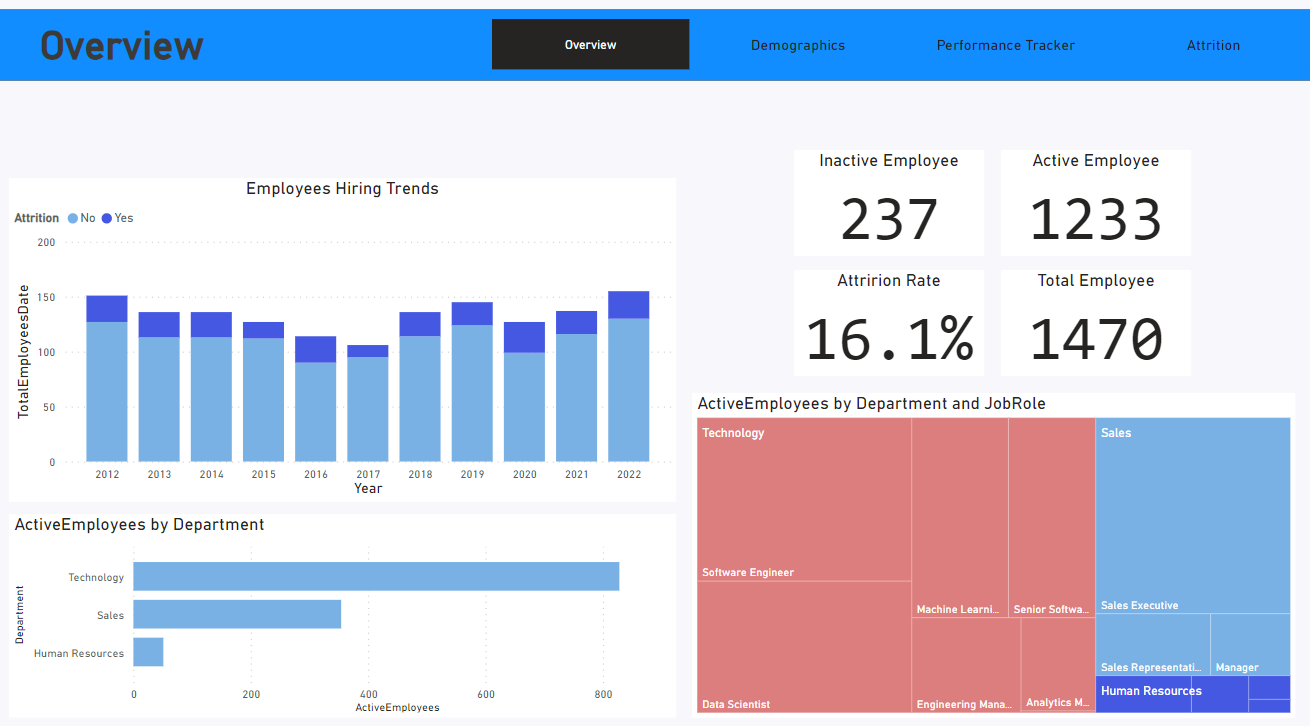

What the dashboard file says about the page in this screenshot:
{"tool":"powerbi","page":{"name":"Overview","canvas":[1280,720],"ordinal":0},"visuals":[{"type":"card","title":"Total Employee","fields":{"Values":["_Measures.TotalEmployees"]},"box":[974.6,271.4,184.8,103.1],"z":0},{"type":"card","title":"Active Employee","fields":{"Values":["_Measures.ActiveEmployees"]},"box":[974.6,154.7,184.8,103.1],"z":1000},{"type":"card","title":"Inactive Employee","fields":{"Values":["_Measures.InactiveEmployees"]},"box":[773.3,154.7,184.8,103.1],"z":2000},{"type":"card","title":"Attririon Rate","fields":{"Values":["_Measures.% AtrittionRate"]},"box":[773.3,271.4,184.8,103.1],"z":3000},{"type":"columnChart","title":"Employees Hiring Trends","fields":{"Category":["DimDate.Date.Variation.Date Hierarchy.Year","DimDate.Date.Variation.Date Hierarchy.Quarter","DimDate.Date.Variation.Date Hierarchy.Month","DimDate.Date.Variation.Date Hierarchy.Day"],"Series":["DimEmployee.Attrition"],"Y":["_Measures.TotalEmployeesDate"]},"box":[9.7,181.9,648.8,315.1],"z":4000},{"type":"treemap","fields":{"Group":["DimEmployee.Department"],"Values":["_Measures.ActiveEmployees"],"Details":["DimEmployee.JobRole"]},"box":[674,391,587.5,316.1],"z":5000},{"type":"barChart","fields":{"Y":["_Measures.ActiveEmployees"],"Category":["DimEmployee.Department"]},"box":[9.7,508.7,648.8,198.4],"z":6000},{"type":"shape","box":[0,17.5,1280,70],"z":7000},{"type":"textbox","box":[35,25.3,299.6,54.5],"z":8000},{"type":"pageNavigator","box":[479.5,27.2,800.5,49.6],"z":8001}]}

Visuals, with their boxes in screenshot pixels (x1, y1, x2, y2), scaled from the page's 1280x720 canvas onto the 1310x726 screenshot:
"Total Employee" card: rect(997, 274, 1187, 378)
"Active Employee" card: rect(997, 156, 1187, 260)
"Inactive Employee" card: rect(791, 156, 981, 260)
"Attririon Rate" card: rect(791, 274, 981, 378)
"Employees Hiring Trends" columnChart: rect(10, 183, 674, 501)
treemap - DimEmployee.Department x _Measures.ActiveEmployees: rect(690, 394, 1291, 713)
barChart - _Measures.ActiveEmployees x DimEmployee.Department: rect(10, 513, 674, 713)
shape: rect(0, 18, 1309, 88)
textbox: rect(36, 26, 342, 80)
pageNavigator: rect(491, 27, 1309, 77)
